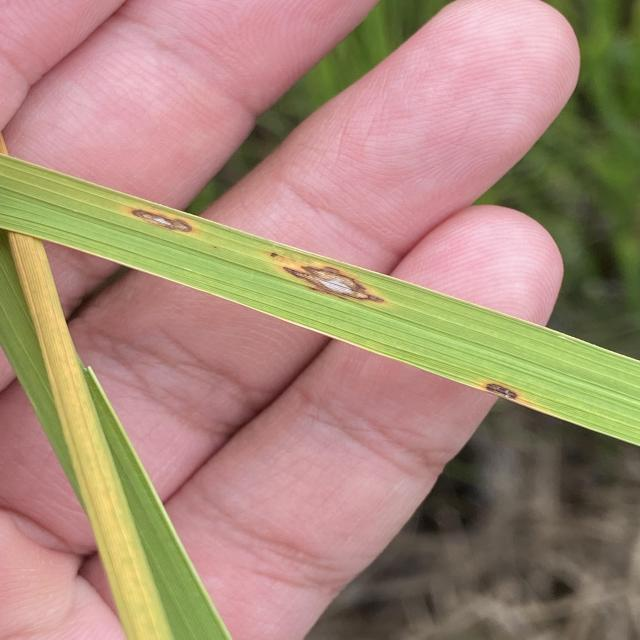Dao on: (282, 264, 384, 303), (132, 209, 192, 232)
